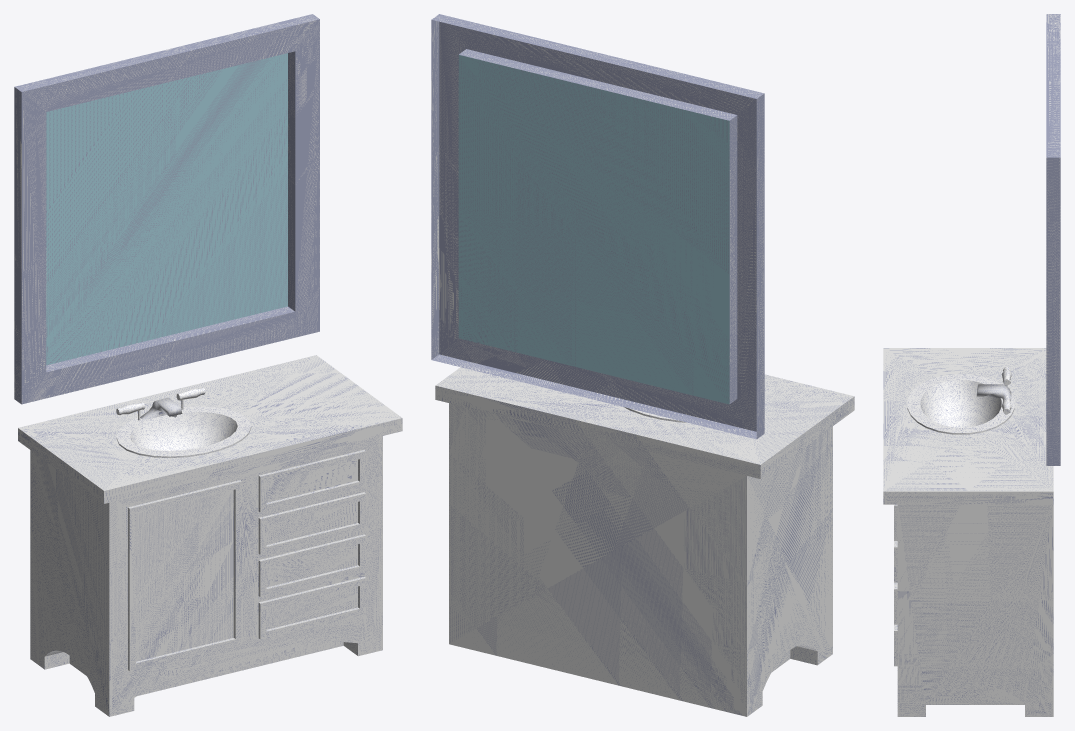
The model's file is bathroomSink.fbx.
3 renders of one model, left to right at view 1: azimuth 30°, elevation 25°; view 2: azimuth 150°, elevation 25°; view 3: azimuth 270°, elevation 25°, orthographic. The views are drawn at different scales.
Visible parts, largest first — view 1: Model, sink_quarter1, sink_quarter3, sink_quarter2, sink_quarter4; view 2: Model; view 3: Model, sink_quarter4, sink_quarter3, sink_quarter2, sink_quarter1, faucet_half1.
Part boxes in pixels (left/top/right/bottom): Model: left=14, top=14, right=402, bottom=716; sink_quarter1: left=163, top=406, right=244, bottom=450; sink_quarter3: left=116, top=416, right=173, bottom=450; sink_quarter2: left=204, top=416, right=251, bottom=452; sink_quarter4: left=123, top=443, right=210, bottom=458; Model: left=431, top=14, right=854, bottom=716; Model: left=883, top=14, right=1060, bottom=716; sink_quarter4: left=907, top=374, right=960, bottom=427; sink_quarter3: left=961, top=374, right=1014, bottom=427; sink_quarter2: left=907, top=403, right=960, bottom=434; sink_quarter1: left=961, top=403, right=1014, bottom=434; faucet_half1: left=976, top=387, right=1011, bottom=412.
Size of the model in its own units: 48 by 88 by 25.
